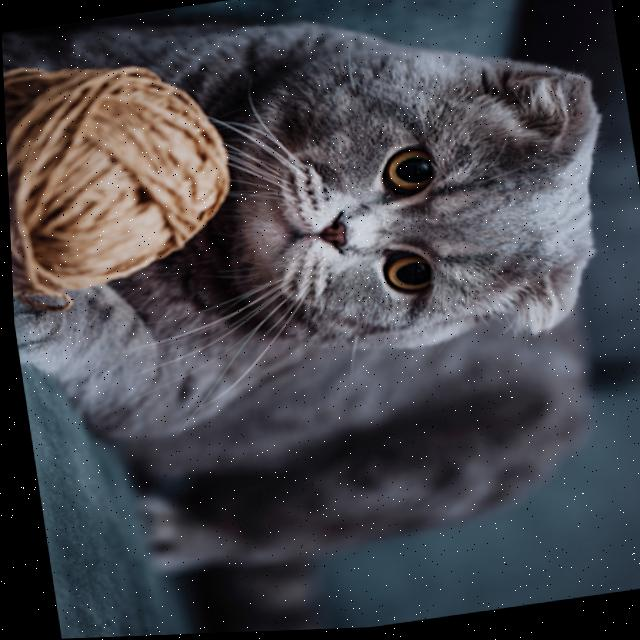Scottish Fold: (0, 0, 640, 604)
